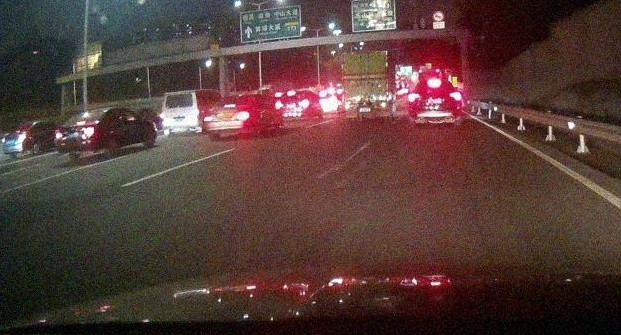L_light: (409, 94, 419, 101), (55, 131, 64, 138), (204, 116, 214, 121), (343, 104, 352, 109), (275, 103, 282, 108), (162, 113, 165, 121)
R_light: (449, 93, 460, 101), (84, 127, 94, 134), (236, 113, 249, 118), (378, 102, 388, 107), (300, 101, 308, 107), (193, 109, 198, 118)
T_light: (429, 80, 440, 86), (76, 121, 85, 125), (224, 104, 236, 107), (287, 92, 295, 95), (175, 94, 182, 97), (361, 52, 368, 55)
night-brake: (55, 107, 107, 161), (203, 93, 254, 142), (408, 79, 461, 125), (275, 90, 309, 122)
night-no: (342, 50, 389, 121), (161, 90, 198, 137)
